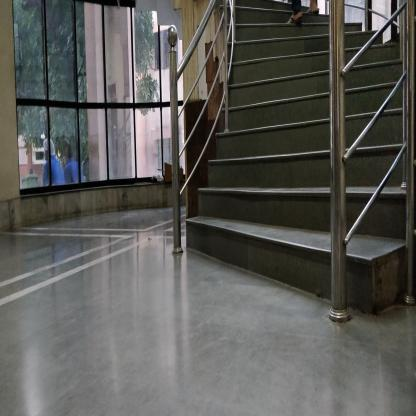stairs: (213, 157, 328, 308)
